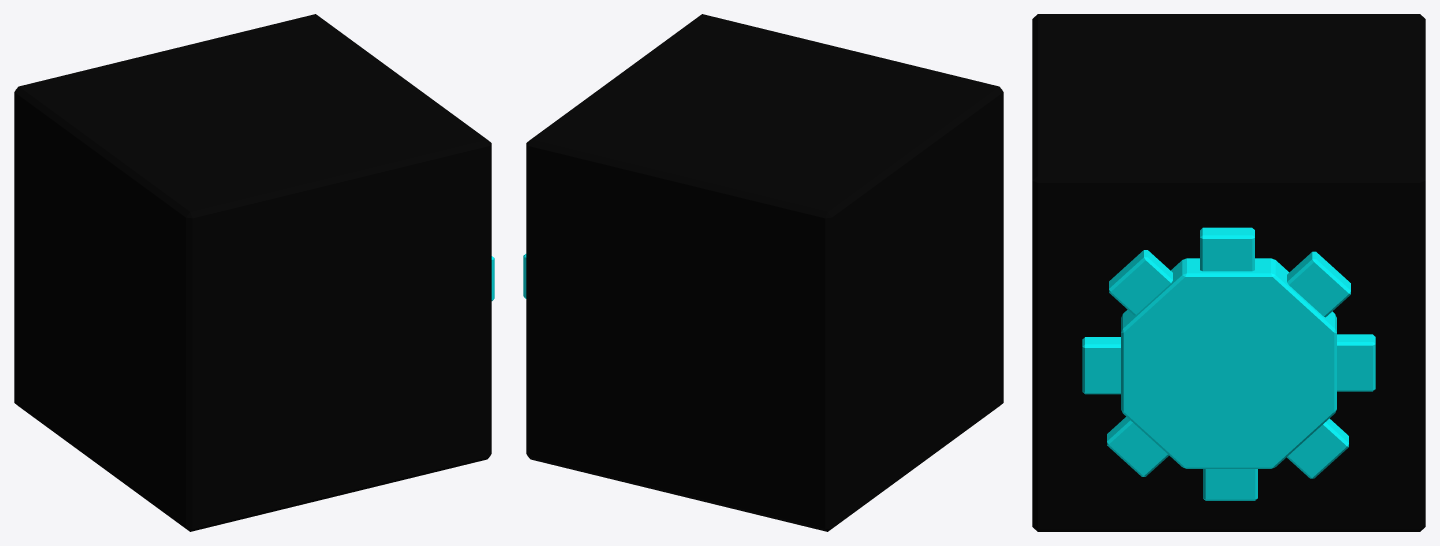
File: SettingsButton.fbx
The picture shows the model from 3 angles, left to right: view 1: azimuth 30°, elevation 25°; view 2: azimuth 150°, elevation 25°; view 3: azimuth 270°, elevation 25°; orthographic projection. The views are drawn at different scales.
Visible parts, largest first — view 1: Cube.001; view 2: Cube.001; view 3: Cube.001.
Part boxes in pixels (bbox=[...]): Cube.001: bbox=[14, 14, 494, 531]; Cube.001: bbox=[523, 14, 1003, 531]; Cube.001: bbox=[1032, 14, 1425, 531].
Size of the model in its own units: 165 by 150 by 150.
